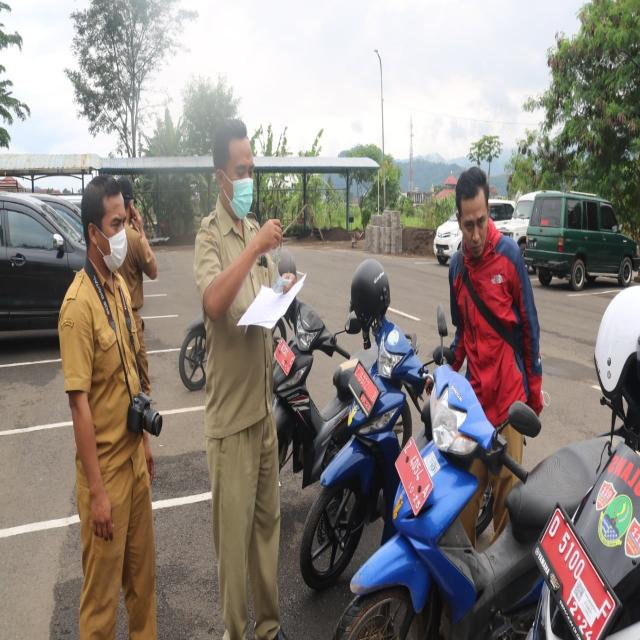License Plate: (531, 500, 621, 640), (394, 433, 434, 517), (347, 358, 381, 423)
